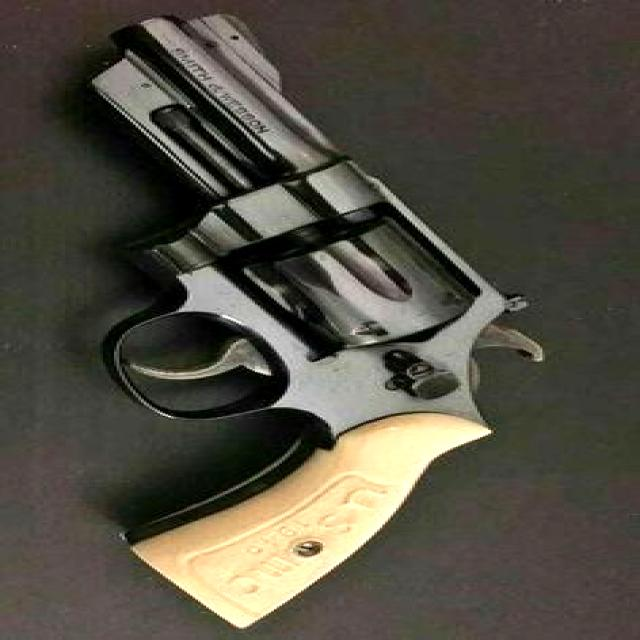revolver: (4, 4, 640, 636)
